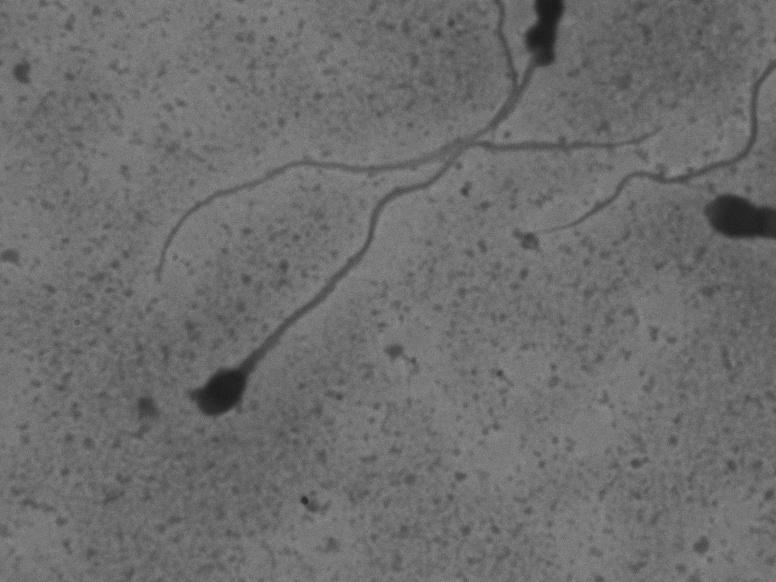Normal: (169, 116, 668, 432)
